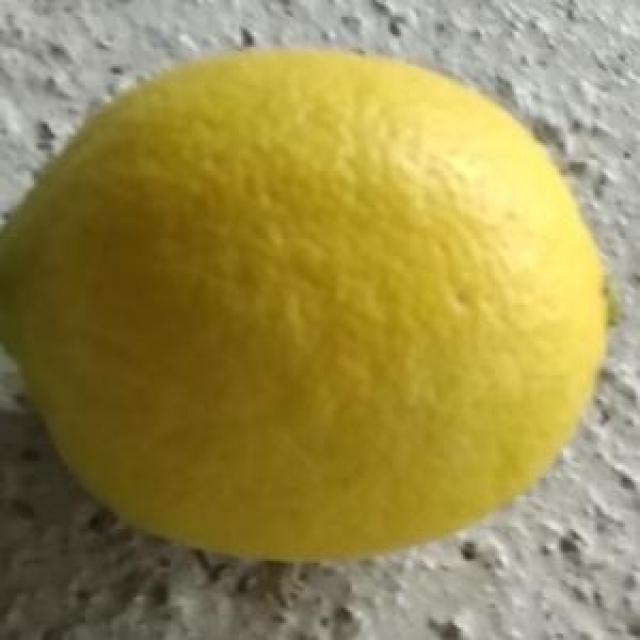lemon: (0, 45, 609, 550)
